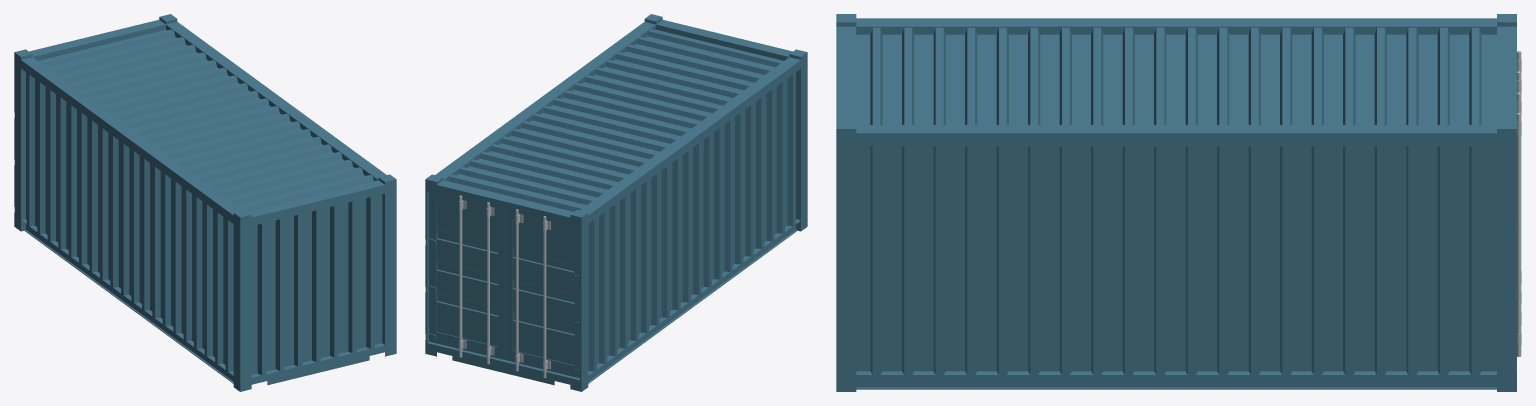
File: container_20ft.fbx
3 views of the same model, side by side, from view 1: azimuth 30°, elevation 25°; view 2: azimuth 150°, elevation 25°; view 3: azimuth 270°, elevation 25° (orthographic). The views are drawn at different scales.
Visible parts, largest first — view 1: Container; view 2: Container, Door_L, Door_R; view 3: Container, Door_L.
Boxes of the visible parts, left/top/right/bottom form: Container: left=14, top=14, right=396, bottom=391; Container: left=425, top=14, right=807, bottom=391; Door_L: left=425, top=191, right=505, bottom=364; Door_R: left=505, top=209, right=583, bottom=378; Container: left=836, top=14, right=1516, bottom=391; Door_L: left=1511, top=92, right=1521, bottom=370.
Bounding box in the file's own units: 2.44 × 2.6 × 6.14.
